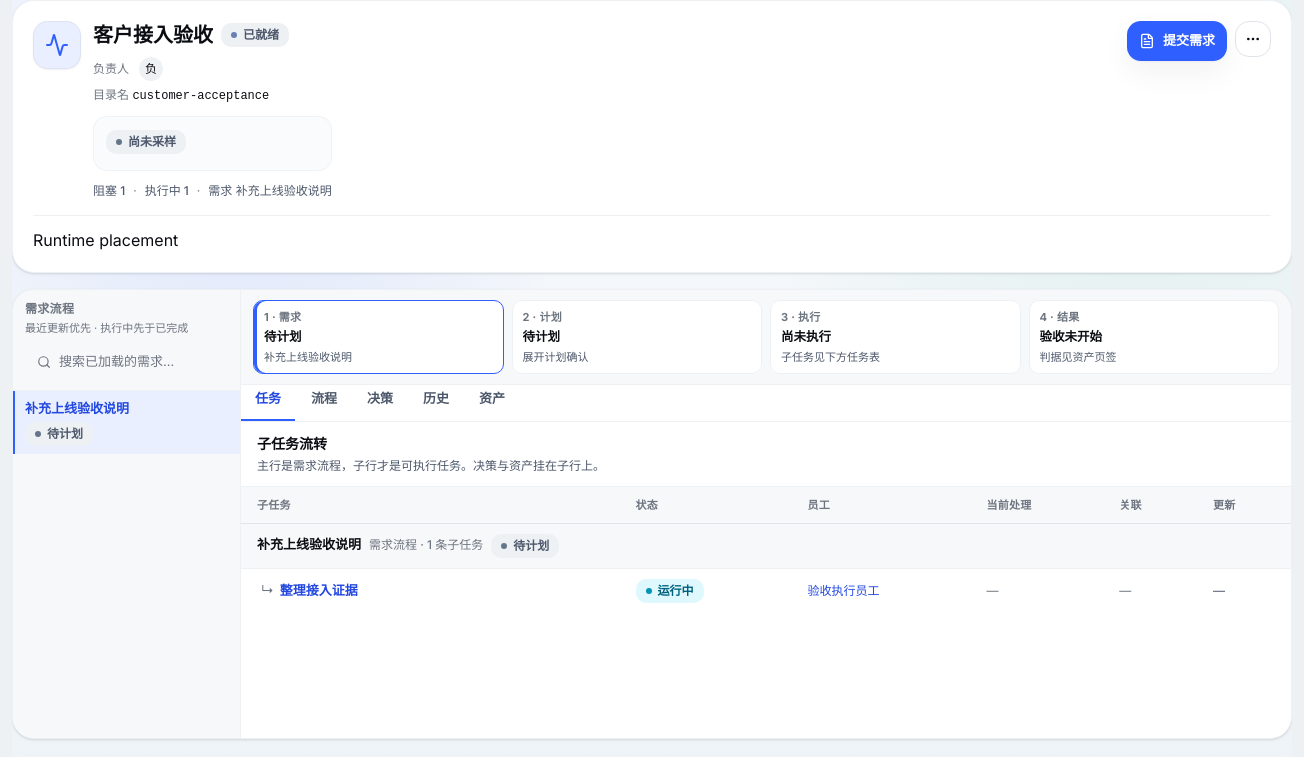
Test: ProjectOperationalDetail › defaults to automated-verification badge and no ambiguity warning for legacy criteria payload
Click the button with test id "demand-river-plan" at [637, 337], box [512,300,762,374]
(page scrolled)
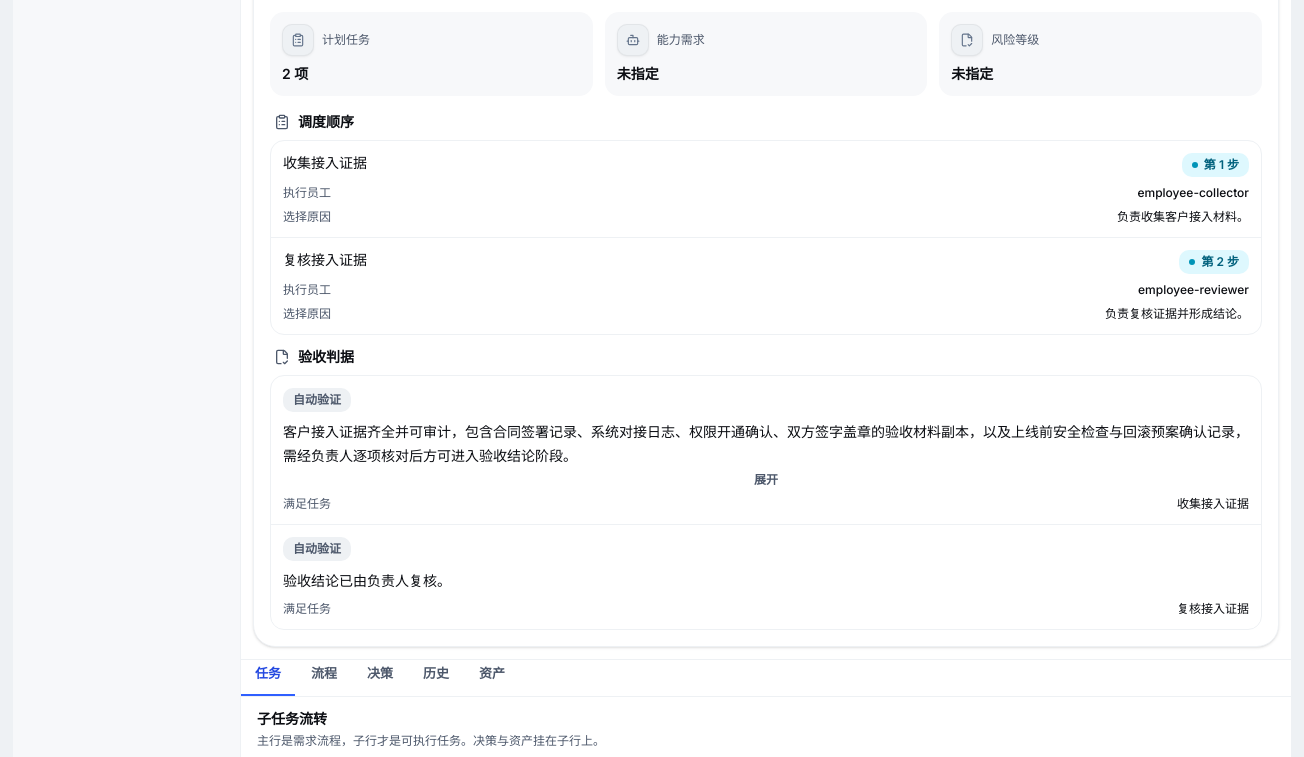
Now the text with test id "plan-acceptance-criterion-method-evidence_complete" reads "自动验证", box [293,392,341,407]
